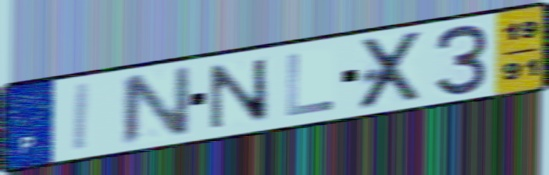3: (430, 21, 492, 98)
I: (70, 80, 94, 155)
L: (284, 51, 337, 119)
N: (117, 62, 195, 149), (206, 56, 273, 132)
X: (355, 27, 428, 113)
